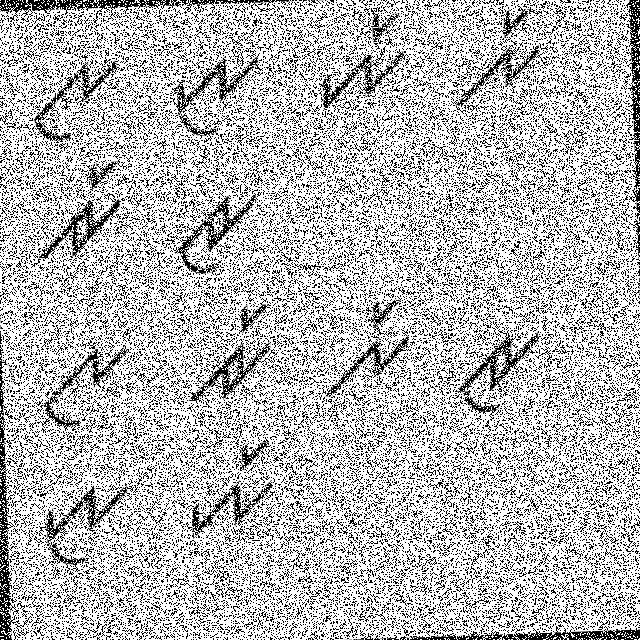lar: (309, 290, 416, 408), (450, 4, 546, 116)
law: (32, 334, 138, 434), (19, 46, 124, 146)
rar: (32, 150, 130, 268), (186, 297, 281, 412)
raw: (164, 184, 262, 284), (454, 324, 546, 423)
yar: (178, 432, 282, 542), (310, 2, 410, 114)
yaw: (28, 473, 141, 570), (162, 50, 262, 145)
